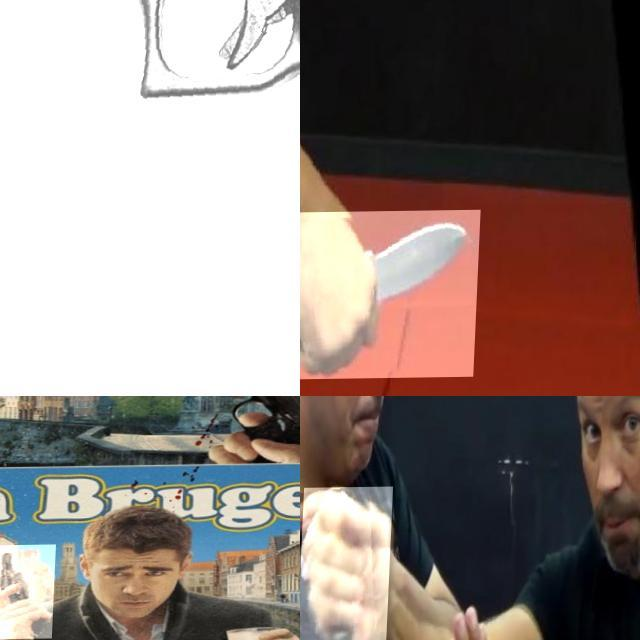-: (300, 210, 484, 380), (300, 487, 395, 640)
gun-knife-thesis - v11 Yolov5 augmented: (0, 0, 300, 385), (180, 396, 300, 482), (0, 545, 58, 640)
